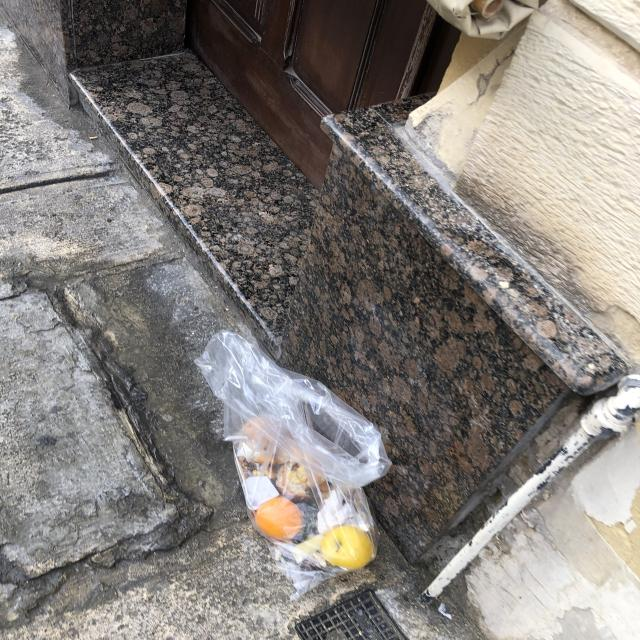Organic Waste -White Bag-: (194, 321, 397, 609)
